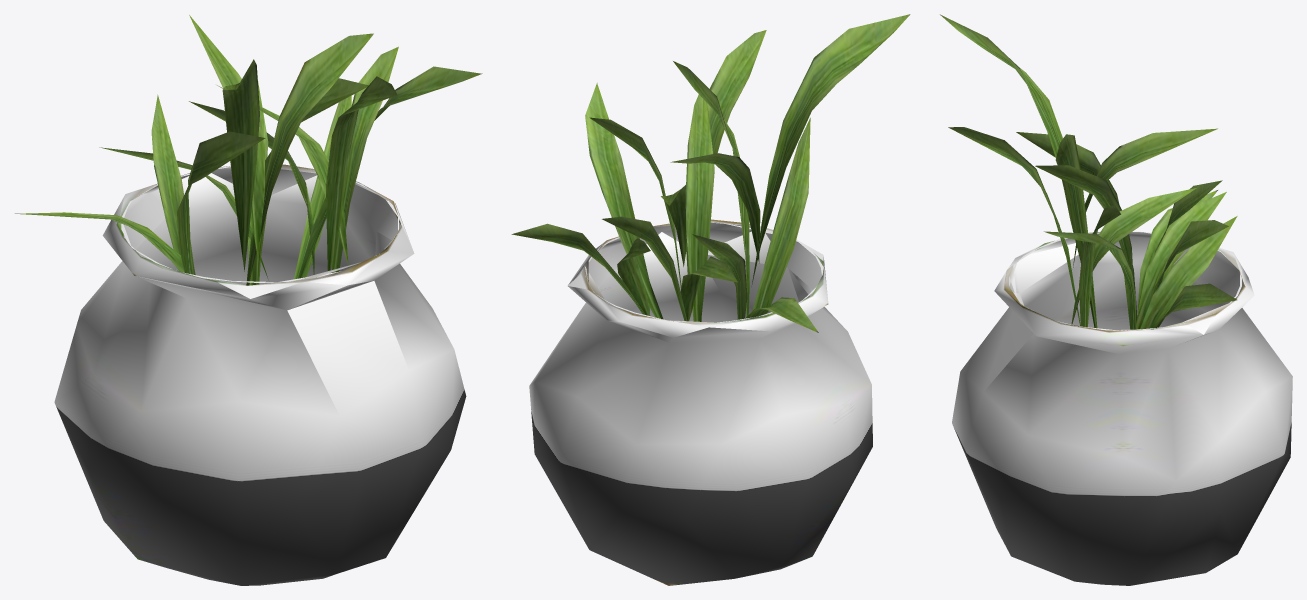
The model's file is Plant0021.obj.
3 views of the same model, side by side, from view 1: azimuth 30°, elevation 25°; view 2: azimuth 150°, elevation 25°; view 3: azimuth 270°, elevation 25° (orthographic). The views are drawn at different scales.
Bounding box in the file's own units: 0.167 × 0.248 × 0.167.
Materials: 1 (1 with a texture image).
